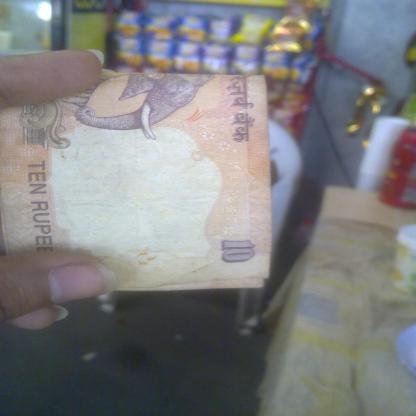Old10Back: (0, 70, 275, 293)
